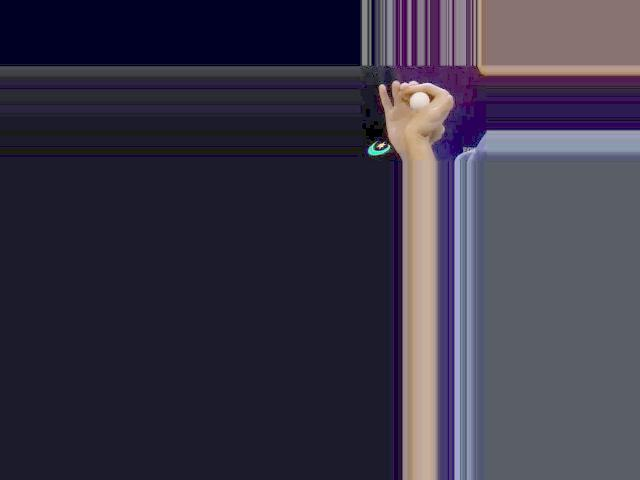egg: (409, 91, 430, 107)
